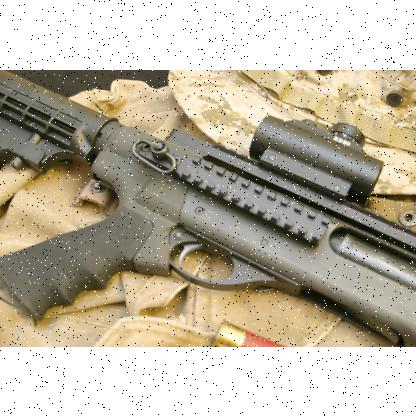gun: (0, 92, 415, 346)
